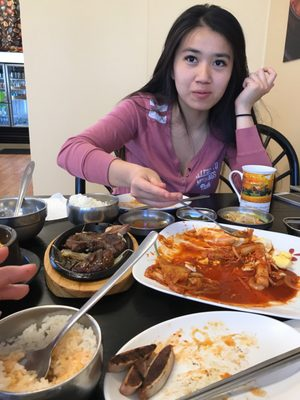pizza: (239, 164, 276, 214)
salad: (32, 232, 159, 370), (16, 160, 35, 213)
sushi: (0, 305, 103, 400), (0, 197, 48, 242), (118, 209, 175, 239), (67, 194, 119, 225)
